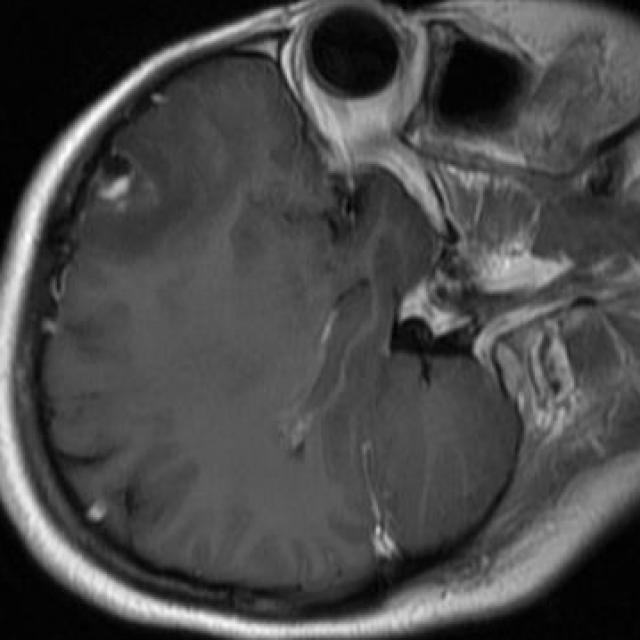glioma: (87, 107, 191, 244)
